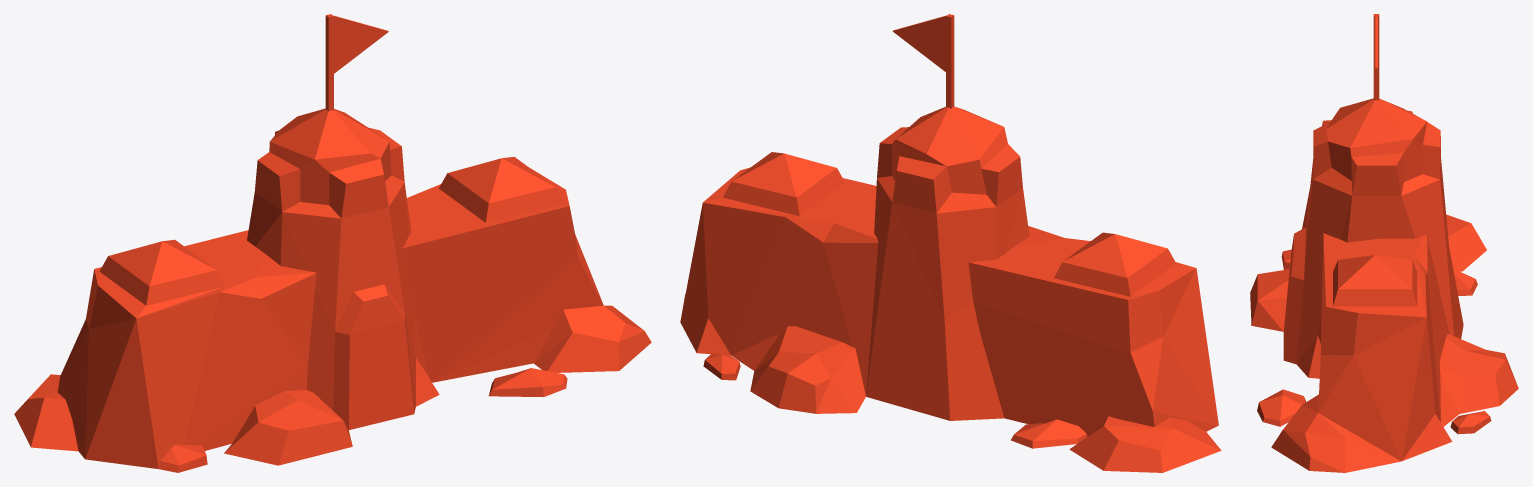
The model's file is SM_Castle_Sand_B_City.fbx.
3 views of the same model, side by side, from view 1: azimuth 30°, elevation 25°; view 2: azimuth 150°, elevation 25°; view 3: azimuth 270°, elevation 25° (orthographic). The views are drawn at different scales.
Visible parts, largest first — view 1: SM_Castle_Sand_B_City; view 2: SM_Castle_Sand_B_City; view 3: SM_Castle_Sand_B_City.
Part boxes in pixels (x1,y1,x2,y2): SM_Castle_Sand_B_City: (14, 14, 651, 472); SM_Castle_Sand_B_City: (680, 14, 1221, 472); SM_Castle_Sand_B_City: (1250, 14, 1518, 472).
Bounding box in the file's own units: 0.9919 × 0.6045 × 0.4446.
